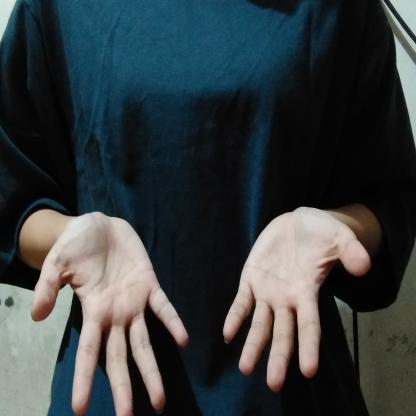what: (1, 190, 375, 416)
